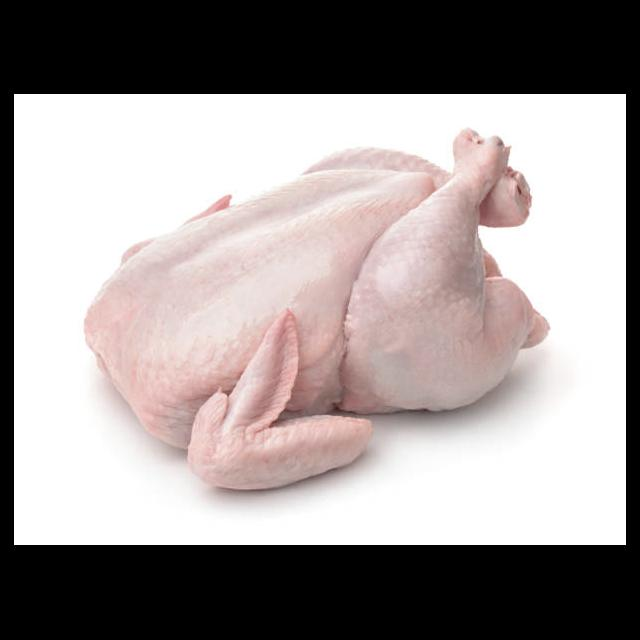chicken: (83, 126, 549, 491)
